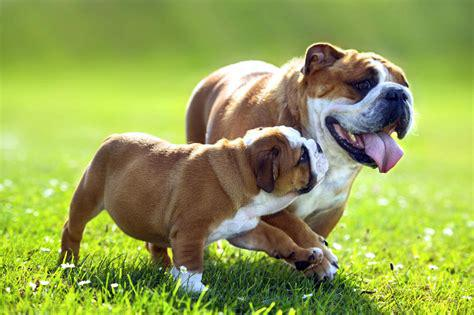dog: (186, 42, 413, 281), (59, 125, 323, 293)
